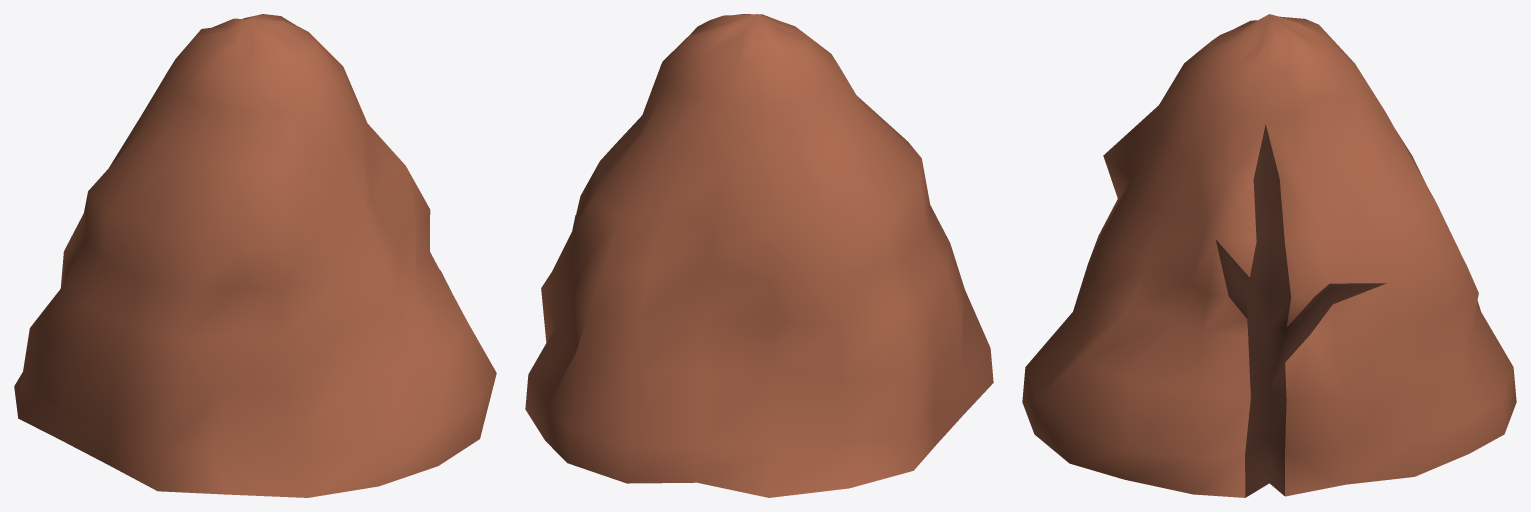
File: Rock.fbx
The picture shows the model from 3 angles, left to right: view 1: azimuth 30°, elevation 25°; view 2: azimuth 150°, elevation 25°; view 3: azimuth 270°, elevation 25°; orthographic projection.
Visible parts, largest first — view 1: pSphere1; view 2: pSphere1; view 3: pSphere1.
Boxes of the visible parts, x1,y1,x2,y2 form: pSphere1: (14, 14, 496, 497); pSphere1: (525, 14, 993, 497); pSphere1: (1022, 14, 1516, 497).
Bounding box in the file's own units: 14.77 × 13.56 × 15.82.
